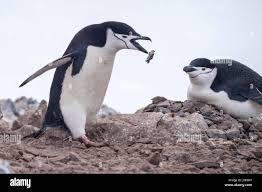chinstrap: (33, 12, 153, 148), (178, 49, 262, 132)
